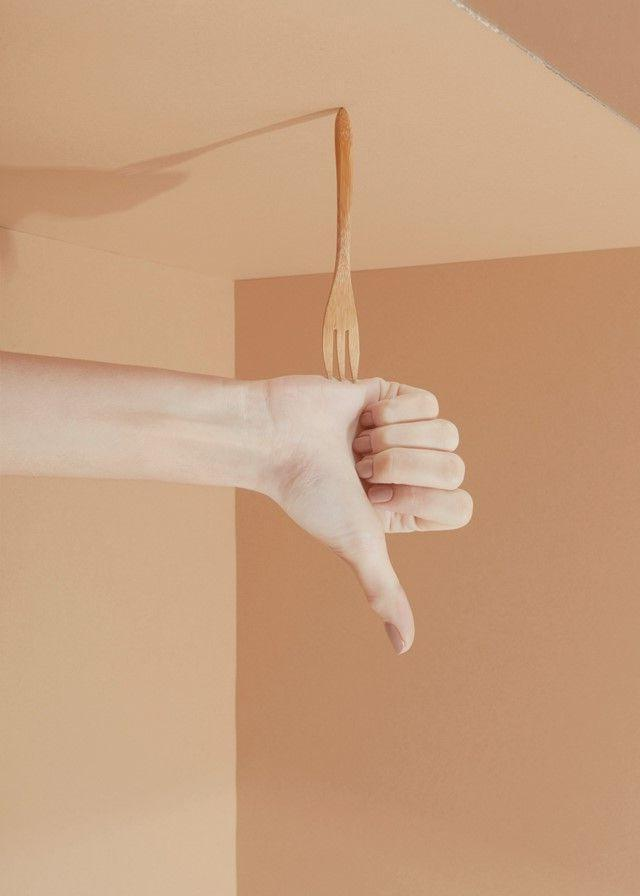thumbsdown: (341, 374, 475, 659)
